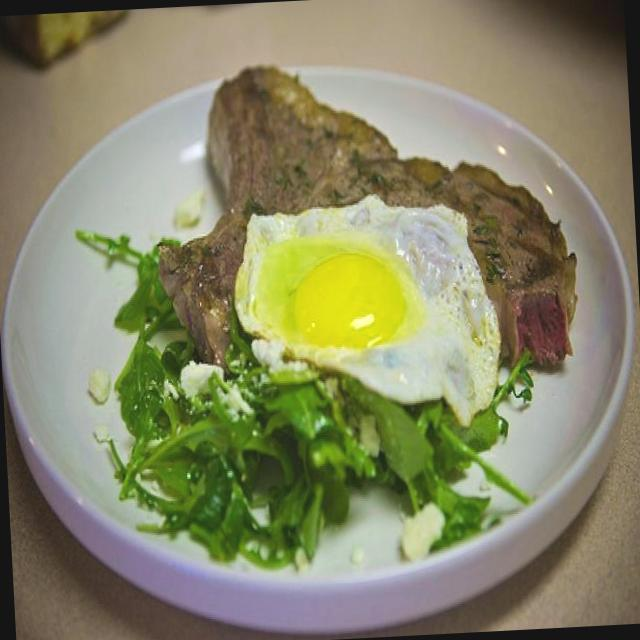Egg: (232, 195, 502, 388)
